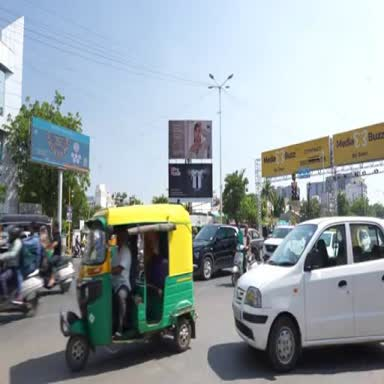Car: (232, 217, 383, 372), (193, 224, 238, 280), (262, 226, 293, 261), (249, 229, 264, 260), (321, 231, 338, 256)
